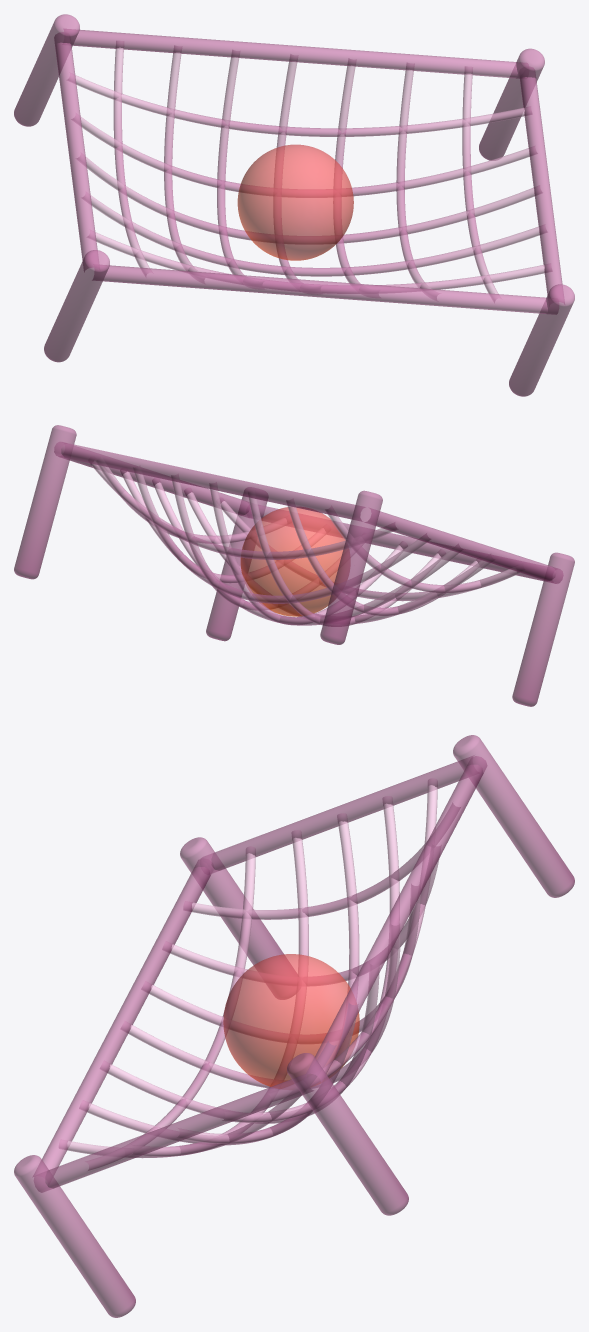
Rendered from safety-net.glb.
3 renders of one model, top to bottom at view 1: azimuth 30°, elevation 25°; view 2: azimuth 150°, elevation 25°; view 3: azimuth 270°, elevation 25°, orthographic. The views are drawn at different scales.
Parts seen in each view (by area): view 1: ball, net_x_6, net_x_0, net_x_4, net_x_1, net_x_3, net_x_2, net_z_0, net_z_8, net_x_5, post_3, post_4 (+9 smaller); view 2: ball, net_x_0, post_1, post_2, post_3, net_x_6, net_z_0, net_x_3, net_x_2, post_4, net_x_1, net_z_8 (+9 smaller); view 3: ball, net_x_0, net_x_6, post_2, post_1, post_4, net_z_8, net_z_0, post_3, net_x_5, net_x_4, net_x_2 (+9 smaller).
Boxes of the visible parts, x1,y1,x2,y2 form: ball: (237,144,353,260); net_x_6: (93,265,558,314); net_x_0: (64,29,528,78); net_x_4: (82,192,546,276); net_x_1: (67,73,531,136); net_x_3: (77,153,541,243); net_x_2: (71,113,537,197); net_z_0: (54,32,98,271); net_z_8: (520,67,564,303); net_x_5: (87,230,551,293); post_3: (44,250,109,362); post_4: (509,284,574,396); ball: (240,507,349,616); net_x_0: (54,442,364,520); post_1: (320,490,382,644); post_2: (14,425,76,579); post_3: (512,552,574,706); net_x_6: (250,505,546,581); net_z_0: (365,508,562,583); net_x_3: (152,478,462,625); net_x_2: (120,470,430,603); post_4: (206,487,267,641); net_x_1: (91,461,397,559); net_z_8: (64,446,250,517); ball: (223,954,359,1088); net_x_0: (306,756,486,1082); net_x_6: (33,859,211,1176); post_2: (287,1053,408,1215); post_1: (453,735,574,897); post_4: (14,1155,135,1317); net_z_8: (34,1074,313,1192); net_z_0: (201,756,472,872); post_3: (180,837,297,999); net_x_5: (86,847,255,1170); net_x_4: (132,830,308,1156); net_x_2: (222,796,399,1122).
Size of the model in its own units: 1.2 by 0.7824 by 0.9877.
